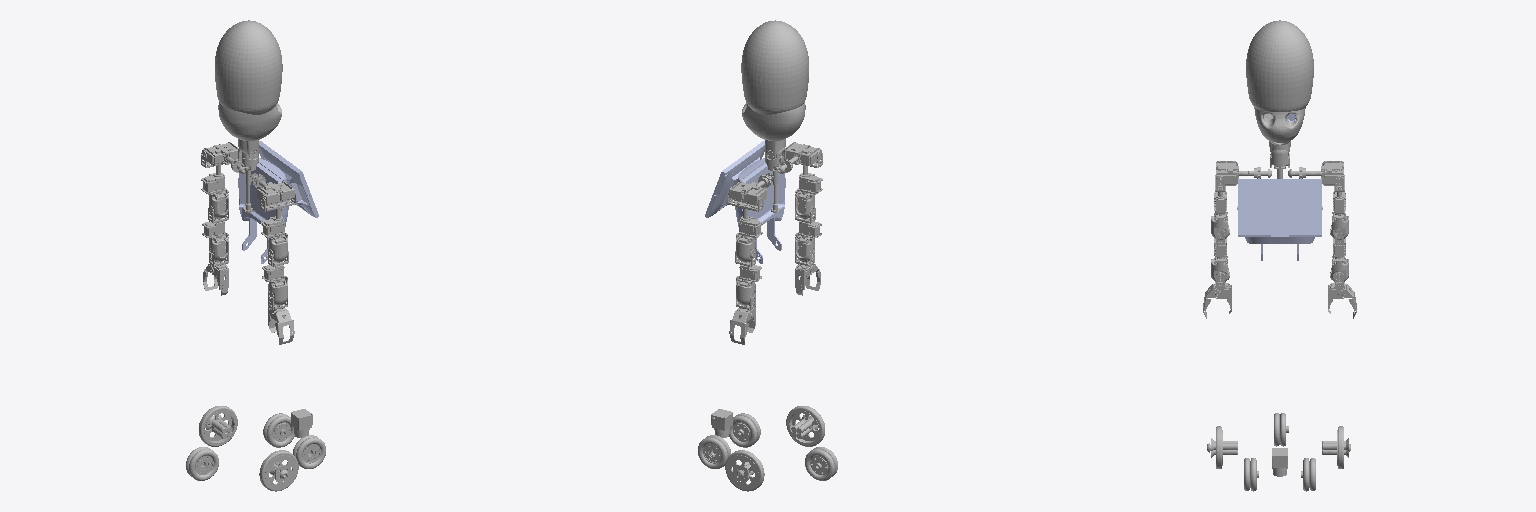
--- Render facts (derived) ---
3 views of the same robot in one strip: view 1: azimuth 30°, elevation 25°; view 2: azimuth 150°, elevation 25°; view 3: azimuth 270°, elevation 25° (orthographic).
Robot: bubot_description — 28 links, 27 joints (18 revolute, 5 continuous, 4 fixed); root link base_footprint; default pose: all joints at 0.
Visible links, largest first — view 1: head_pitch_link, tray_pitch_link, left_wheel_link, right_wheel_link, rear_wheel_link, right_front_wheel_link, left_front_wheel_link, right_arm_shoulder_pitch_link, left_arm_shoulder_pitch_link, right_arm_shoulder_roll_link, left_arm_shoulder_roll_link; view 2: head_pitch_link, tray_pitch_link, right_wheel_link, left_wheel_link, rear_wheel_link, left_front_wheel_link, right_front_wheel_link, left_arm_shoulder_pitch_link, right_arm_shoulder_pitch_link, left_arm_shoulder_roll_link, right_arm_shoulder_roll_link; view 3: head_pitch_link, tray_pitch_link, left_arm_shoulder_pitch_link, right_arm_shoulder_pitch_link, right_wheel_link, left_wheel_link.
Boxes of the visible links, x1,y1,x2,y2 form: head_pitch_link: (215, 20, 282, 157); tray_pitch_link: (238, 141, 318, 263); left_wheel_link: (199, 406, 237, 446); right_wheel_link: (259, 450, 298, 491); rear_wheel_link: (186, 447, 218, 480); right_front_wheel_link: (293, 435, 325, 468); left_front_wheel_link: (263, 413, 294, 447); right_arm_shoulder_pitch_link: (250, 173, 294, 205); left_arm_shoulder_pitch_link: (202, 142, 245, 173); right_arm_shoulder_roll_link: (260, 187, 295, 237); left_arm_shoulder_roll_link: (201, 151, 235, 194); head_pitch_link: (741, 20, 808, 157); tray_pitch_link: (705, 141, 785, 263); right_wheel_link: (786, 406, 824, 446); left_wheel_link: (725, 450, 764, 491); rear_wheel_link: (805, 447, 837, 480); left_front_wheel_link: (698, 435, 730, 468); right_front_wheel_link: (729, 413, 760, 447); left_arm_shoulder_pitch_link: (729, 173, 773, 205); right_arm_shoulder_pitch_link: (778, 142, 821, 173); left_arm_shoulder_roll_link: (728, 187, 763, 237); right_arm_shoulder_roll_link: (788, 151, 822, 194); head_pitch_link: (1246, 20, 1313, 154); tray_pitch_link: (1237, 179, 1322, 260); left_arm_shoulder_pitch_link: (1288, 161, 1343, 185); right_arm_shoulder_pitch_link: (1216, 161, 1271, 185); right_wheel_link: (1207, 426, 1237, 468); left_wheel_link: (1322, 426, 1350, 468).
Size in the robot's own frame: 0.414 by 0.4535 by 1.45 metres.
Meshes: 27 distinct files referenced, 24 mesh visuals loaded (24 binary STL); not drawn: 3 (reference not matched to a file when rendering).

The robot description file, URDF, robot "bubot_description":
<?xml version="1.0" encoding="utf-8"?>
<!-- This URDF was automatically created by SolidWorks to URDF Exporter! Originally created by Stephen Brawner ([email redacted]) 
     Commit Version: 1.5.0-0-g9aa0fdb  Build Version: 1.5.7004.21443
     For more information, please see http://wiki.ros.org/sw_urdf_exporter -->
<robot
  name="bubot_description">


 <link name="base_footprint"/>

  <joint name="base_joint" type="fixed">
    <parent link="base_footprint"/>
    <child link="base_link"/>
    <origin xyz="0.0 0.0 0.1" rpy="0 0 0"/>
  </joint>




  <link
    name="base_link">
    <inertial>
      <origin
        xyz="0.00614507467316344 0.00132442548214557 0.111279328924944"
        rpy="0 0 0" />
      <mass
        value="17.5407923723636" />
      <inertia
        ixx="0.469469086185873"
        ixy="0.000459258543047036"
        ixz="0.0195713811597716"
        iyy="0.488079163056402"
        iyz="-0.00170511359318661"
        izz="0.269766482328618" />
    </inertial>
    <visual>
      <origin
        xyz="0 0 0"
        rpy="0 0 0" />
      <geometry>
        <mesh
          filename="package://bubot_description/meshes/base_link.STL" />
      </geometry>
      <material
        name="">
        <color
          rgba="0.792156862745098 0.819607843137255 0.933333333333333 1" />
      </material>
    </visual>
    <collision>
      <origin
        xyz="0 0 0"
        rpy="0 0 0" />
      <geometry>
      <mesh  filename="package://bubot_description/meshes/base_link.STL" /> 
      </geometry>
    </collision>
  </link>
  <link
    name="left_wheel_link">
    <inertial>
      <origin
        xyz="-7.84851523104154E-11 -0.00332107438012788 8.73111291599393E-10"
        rpy="0 0 0" />
      <mass
        value="0.287293505141149" />
      <inertia
        ixx="0.000307503313942651"
        ixy="2.95562518254029E-12"
        ixz="-1.22548541274726E-17"
        iyy="0.000432551955047046"
        iyz="-3.80638695771607E-11"
        izz="0.000307503317768079" />
    </inertial>
    <visual>
      <origin
        xyz="0 0 0"
        rpy="0 0 0" />
      <geometry>
        <mesh
          filename="package://bubot_description/meshes/left_wheel_link.STL" />
      </geometry>
      <material
        name="">
        <color
          rgba="0.752941176470588 0.752941176470588 0.752941176470588 1" />
      </material>
    </visual>
    <collision>
      <origin
        xyz="0 0 0"
        rpy="0 0 0" />
      <geometry>
        <!--<meshfilename="package://bubot_description/meshes/left_wheel_link.STL" />-->
        <cylinder length="0.02" radius="0.065"/>
      </geometry>
    </collision>
  </link>
  <joint
    name="left_wheel_joint"
    type="continuous">
    <origin
      xyz="0 0.1795 -0.0814300000000002"
      rpy="0 0 0" />
    <parent
      link="base_link" />
    <child
      link="left_wheel_link" />
    <axis
      xyz="0 -0.999999999999957 0" />
    
      
  </joint>
  <link
    name="right_wheel_link">
    <inertial>
      <origin
        xyz="4.93461377815295E-11 0.00299505405611283 7.77355430026105E-10"
        rpy="0 0 0" />
      <mass
        value="0.287293505141148" />
      <inertia
        ixx="0.00030858947346633"
        ixy="2.0428470969486E-12"
        ixz="1.19749316134548E-17"
        iyy="0.000432551955047045"
        iyz="3.77544364458498E-11"
        izz="0.000308589477291759" />
    </inertial>
    <visual>
      <origin
        xyz="0 0 0"
        rpy="0 0 0" />
      <geometry>
        <mesh
          filename="package://bubot_description/meshes/right_wheel_link.STL" />
      </geometry>
      <material
        name="">
        <color
          rgba="0.752941176470588 0.752941176470588 0.752941176470588 1" />
      </material>
    </visual>
    <collision>
      <origin
        xyz="0 0 0"
        rpy="0 0 0" />
      <geometry>
       <!-- <mesh filename="package://bubot_description/meshes/right_wheel_link.STL" />-->
        <cylinder length="0.02" radius="0.065"/>
      </geometry>
    </collision>
  </link>
  <joint
    name="right_wheel_joint"
    type="continuous">
    <origin
      xyz="0 -0.1795 -0.08143"
      rpy="0 0 0" />
    <parent
      link="base_link" />
    <child
      link="right_wheel_link" />
    <axis
      xyz="0 1 0" />
    
      
  </joint>
  <link
    name="left_front_wheel_link">
    <inertial>
      <origin
        xyz="-1.69586567011493E-14 -0.00184263548561878 -2.8047009159593E-14"
        rpy="0 0 0" />
      <mass
        value="0.292526122406118" />
      <inertia
        ixx="0.000182324161031027"
        ixy="-1.25120058784725E-20"
        ixz="-1.04220518069559E-21"
        iyy="0.000310962059892664"
        iyz="-1.5008782043789E-21"
        izz="0.000182324161031027" />
    </inertial>
    <visual>
      <origin
        xyz="0 0 0"
        rpy="0 0 0" />
      <geometry>
        <mesh
          filename="package://bubot_description/meshes/left_front_wheel_link.STL" />
      </geometry>
      <material
        name="">
        <color
          rgba="0.752941176470588 0.752941176470588 0.752941176470588 1" />
      </material>
    </visual>
    <collision>
      <origin
        xyz="0 0 0"
        rpy="0 0 0" />
      <geometry>
        <mesh
          filename="package://bubot_description/meshes/left_front_wheel_link.STL" />
      </geometry>
    </collision>
  </link>
  <joint
    name="left_front_wheel_joint"
    type="continuous">
    <origin
      xyz="0.157 0.0873 -0.09493"
      rpy="0 0 0" />
    <parent
      link="base_link" />
    <child
      link="left_front_wheel_link" />
    <axis
      xyz="0 1 0" />
    
      
  </joint>
  <link
    name="right_front_wheel_link">
    <inertial>
      <origin
        xyz="-1.69309011255336E-14 0.00184263548561878 -2.80192535839774E-14"
        rpy="0 0 0" />
      <mass
        value="0.292526122406118" />
      <inertia
        ixx="0.000182324161031027"
        ixy="1.88302295403389E-21"
        ixz="-4.18630938134262E-21"
        iyy="0.000310962059892664"
        iyz="-4.00692203468122E-21"
        izz="0.000182324161031027" />
    </inertial>
    <visual>
      <origin
        xyz="0 0 0"
        rpy="0 0 0" />
      <geometry>
        <mesh
          filename="package://bubot_description/meshes/right_front_wheel_link.STL" />
      </geometry>
      <material
        name="">
        <color
          rgba="0.752941176470588 0.752941176470588 0.752941176470588 1" />
      </material>
    </visual>
    <collision>
      <origin
        xyz="0 0 0"
        rpy="0 0 0" />
      <geometry>
        <mesh
          filename="package://bubot_description/meshes/right_front_wheel_link.STL" />
      </geometry>
    </collision>
  </link>
  <joint
    name="right_front_wheel_joint"
    type="continuous">
    <origin
      xyz="0.157 -0.0873 -0.09493"
      rpy="0 0 0" />
    <parent
      link="base_link" />
    <child
      link="right_front_wheel_link" />
    <axis
      xyz="0 -1 0" />
    
      
  </joint>
  <link
    name="rear_wheel_link">
    <inertial>
      <origin
        xyz="0 0.0018426354861247 0"
        rpy="0 0 0" />
      <mass
        value="0.292526122406118" />
      <inertia
        ixx="0.000182324161031027"
        ixy="9.01577989152663E-21"
        ixz="-6.34838413139654E-21"
        iyy="0.000310962059892664"
        iyz="-1.24832850142728E-20"
        izz="0.000182324161031027" />
    </inertial>
    <visual>
      <origin
        xyz="0 0 0"
        rpy="0 0 0" />
      <geometry>
        <mesh
          filename="package://bubot_description/meshes/rear_wheel_link.STL" />
      </geometry>
      <material
        name="">
        <color
          rgba="0.752941176470588 0.752941176470588 0.752941176470588 1" />
      </material>
    </visual>
    <collision>
      <origin
        xyz="0 0 0"
        rpy="0 0 0" />
      <geometry>
        <mesh
          filename="package://bubot_description/meshes/rear_wheel_link.STL" />
      </geometry>
    </collision>
  </link>
  <joint
    name="rear_wheel_joint"
    type="continuous">
    <origin
      xyz="-0.156999999999998 0 -0.0949300000000002"
      rpy="0 0 0" />
    <parent
      link="base_link" />
    <child
      link="rear_wheel_link" />
    <axis
      xyz="0 -1 0" />
    
      
  </joint>
  <link
    name="front_laser_mountpoint_link">
    <inertial>
      <origin
        xyz="0.0109910978700271 -0.00660628943773737 -0.0102231270512427"
        rpy="0 0 0" />
      <mass
        value="0.142293449327418" />
      <inertia
        ixx="7.99749503749484E-05"
        ixy="7.56325152192464E-08"
        ixz="2.6339172338324E-08"
        iyy="8.01694611303598E-05"
        iyz="1.99081597083217E-07"
        izz="4.9027575487778E-05" />
    </inertial>
    <visual>
      <origin
        xyz="0 0 0"
        rpy="0 0 0" />
      <geometry>
        <mesh
          filename="package://bubot_description/meshes/front_laser_mountpoint_link.STL" />
      </geometry>
      <material
        name="">
        <color
          rgba="0.752941176470588 0.752941176470588 0.752941176470588 1" />
      </material>
    </visual>
    <collision>
      <origin
        xyz="0 0 0"
        rpy="0 0 0" />
      <geometry>
        <mesh
          filename="package://bubot_description/meshes/front_laser_mountpoint_link.STL" />
      </geometry>
    </collision>
  </link>
  <joint
    name="front_laser_mountpoint_joint"
    type="fixed">
    <origin
      xyz="0.169930018642521 0.00655022800475659 -0.0313817529714081"
      rpy="0 0 0" />
    <parent
      link="base_link" />
    <child
      link="front_laser_mountpoint_link" />
    <axis
      xyz="0 0 0" />
    
      
  </joint>
  <link
    name="torso_yaw_link">
    <inertial>
      <origin
        xyz="-0.0211836539763696 3.71816208305583E-05 0.134250337044029"
        rpy="0 0 0" />
      <mass
        value="15.384134203599" />
      <inertia
        ixx="0.502071562161703"
        ixy="-4.51403345740403E-06"
        ixz="-0.036488125429086"
        iyy="0.466071581377529"
        iyz="9.71646967407404E-05"
        izz="0.120092843605433" />
    </inertial>
    <visual>
      <origin
        xyz="0 0 0"
        rpy="0 0 0" />
      <geometry>
        <mesh
          filename="package://bubot_description/meshes/torso_yaw_link.STL" />
      </geometry>
      <material
        name="">
        <color
          rgba="0.792156862745098 0.819607843137255 0.933333333333333 1" />
      </material>
    </visual>
    <collision>
      <origin
        xyz="0 0 0"
        rpy="0 0 0" />
      <geometry>
        <mesh
          filename="package://bubot_description/meshes/torso_yaw_link.STL" />
      </geometry>
    </collision>
  </link>
  <joint
    name="torso_yaw_joint"
    type="revolute">
    <origin
      xyz="0 0 0.5265"
      rpy="0 0 0" />
    <parent
      link="base_link" />
    <child
      link="torso_yaw_link" />
    <axis
      xyz="0 0 1" />
    <limit
      lower="-0.79"
      upper="0.79"
      effort="10"
      velocity="1" />
    
      
  </joint>
  <link
    name="tray_pitch_link">
    <inertial>
      <origin
        xyz="0.0621721863824356 0.000728335369562271 0.180477032954461"
        rpy="0 0 0" />
      <mass
        value="2.98068027802018" />
      <inertia
        ixx="0.0194947536832028"
        ixy="-7.48678413809687E-05"
        ixz="-0.00132900861679371"
        iyy="0.011613140525037"
        iyz="-5.37259655538909E-05"
        izz="0.0142243951256448" />
    </inertial>
    <visual>
      <origin
        xyz="0 0 0"
        rpy="0 0 0" />
      <geometry>
        <mesh
          filename="package://bubot_description/meshes/tray_pitch_link.STL" />
      </geometry>
      <material
        name="">
        <color
          rgba="0.792156862745098 0.819607843137255 0.933333333333333 1" />
      </material>
    </visual>
    <collision>
      <origin
        xyz="0 0 0"
        rpy="0 0 0" />
      <geometry>
        <mesh
          filename="package://bubot_description/meshes/tray_pitch_link.STL" />
      </geometry>
    </collision>
  </link>
  <joint
    name="tray_pitch_joint"
    type="revolute">
    <origin
      xyz="0.02548 0 0.028"
      rpy="0 0 0" />
    <parent
      link="torso_yaw_link" />
    <child
      link="tray_pitch_link" />
    <axis
      xyz="0 1 0" />
    <!--<limit
      lower="0"
      upper="1.57"
      effort="10"
      velocity="1" />-->

    <limit velocity="4.8" effort="1" lower="0" upper="1.57" />

    
      
  </joint>
  <link
    name="head_yaw_link">
    <inertial>
      <origin
        xyz="0.0014962219880101 -3.04882859083288E-05 0.00782467988013213"
        rpy="0 0 0" />
      <mass
        value="0.201333205297474" />
      <inertia
        ixx="0.000736239714581384"
        ixy="-1.14109916065634E-08"
        ixz="-9.99042992566853E-06"
        iyy="0.00072938836390482"
        iyz="-1.17463954570097E-07"
        izz="5.17097177907421E-05" />
    </inertial>
    <visual>
      <origin
        xyz="0 0 0"
        rpy="0 0 0" />
      <geometry>
        <mesh
          filename="package://bubot_description/meshes/head_yaw_link.STL" />
      </geometry>
      <material
        name="">
        <color
          rgba="0.752941176470588 0.752941176470588 0.752941176470588 1" />
      </material>
    </visual>
    <collision>
      <origin
        xyz="0 0 0"
        rpy="0 0 0" />
      <geometry>
        <mesh
          filename="package://bubot_description/meshes/head_yaw_link.STL" />
      </geometry>
    </collision>
  </link>
  <joint
    name="head_yaw_joint"
    type="revolute">
    <origin
      xyz="0 0 0.30737"
      rpy="0 0 0" />
    <parent
      link="torso_yaw_link" />
    <child
      link="head_yaw_link" />
    <axis
      xyz="0 0 1" />
    <limit
      lower="-0.79"
      upper="0.79"
      effort="10"
      velocity="1" />
    
      
  </joint>
  <link
    name="head_pitch_link">
    <inertial>
      <origin
        xyz="0.00135536661040343 -0.000122880868704684 0.251021558465587"
        rpy="0 0 0" />
      <mass
        value="5.58924337729417" />
      <inertia
        ixx="0.0614222666404918"
        ixy="-9.13342160102728E-06"
        ixz="0.00139479623362596"
        iyy="0.0627976215444188"
        iyz="-5.50046240195658E-05"
        izz="0.0288452581063919" />
    </inertial>
    <visual>
      <origin
        xyz="0 0 0"
        rpy="0 0 0" />
      <geometry>
        <mesh
          filename="package://bubot_description/meshes/head_pitch_link.STL" />
      </geometry>
      <material
        name="">
        <color
          rgba="0.752941176470588 0.752941176470588 0.752941176470588 1" />
      </material>
    </visual>
    <collision>
      <origin
        xyz="0 0 0"
        rpy="0 0 0" />
      <geometry>
        <mesh
          filename="package://bubot_description/meshes/head_pitch_link.STL" />
      </geometry>
    </collision>
  </link>
  <joint
    name="head_pitch_joint"
    type="revolute">
    <origin
      xyz="0 0 0.0545"
      rpy="0 0 0" />
    <parent
      link="head_yaw_link" />
    <child
      link="head_pitch_link" />
    <axis
      xyz="0 -1 0" />
    <limit
      lower="-0.4"
      upper="0.4"
      effort="10"
      velocity="1" />
    
      
  </joint>
  <link
    name="left_camera_link">
    <inertial>
      <origin
        xyz="-0.0267186601902245 5.79327189692558E-09 -0.00151976594563874"
        rpy="0 0 0" />
      <mass
        value="0.040493403492273" />
      <inertia
        ixx="5.29997303158495E-06"
        ixy="3.00820822720973E-12"
        ixz="-4.20967409707152E-07"
        iyy="1.30948609116678E-05"
        iyz="2.95114820905194E-12"
        izz="1.19423729648629E-05" />
    </inertial>
    <visual>
      <origin
        xyz="0 0 0"
        rpy="0 0 0" />
      <geometry>
        <mesh
          filename="package://bubot_description/meshes/left_camera_link.STL" />
      </geometry>
      <material
        name="">
        <color
          rgba="0.792156862745098 0.819607843137255 0.933333333333333 1" />
      </material>
    </visual>
    <collision>
      <origin
        xyz="0 0 0"
        rpy="0 0 0" />
      <geometry>
        <mesh
          filename="package://bubot_description/meshes/left_camera_link.STL" />
      </geometry>
    </collision>
  </link>
  <joint
    name="left_camera_joint"
    type="fixed">
    <origin
      xyz="0.06349 0.034249 0.13677"
      rpy="0 0 0" />
    <parent
      link="head_pitch_link" />
    <child
      link="left_camera_link" />
    <axis
      xyz="0 0 0" />
    
      
  </joint>
  <link
    name="right_camera_link">
    <inertial>
      <origin
        xyz="-0.0267186601902246 5.79327180671996E-09 -0.00151976594563896"
        rpy="0 0 0" />
      <mass
        value="0.0404934034922726" />
      <inertia
        ixx="5.29997303158491E-06"
        ixy="3.00820827741918E-12"
        ixz="-4.20967409707142E-07"
        iyy="1.30948609116678E-05"
        iyz="2.95114823210664E-12"
        izz="1.19423729648629E-05" />
    </inertial>
    <visual>
      <origin
        xyz="0 0 0"
        rpy="0 0 0" />
      <geometry>
        <mesh
          filename="package://bubot_description/meshes/right_camera_link.STL" />
      </geometry>
      <material
        name="">
        <color
          rgba="0.792156862745098 0.819607843137255 0.933333333333333 1" />
      </material>
    </visual>
    <collision>
      <origin
        xyz="0 0 0"
        rpy="0 0 0" />
      <geometry>
        <mesh
          filename="package://bubot_description/meshes/right_camera_link.STL" />
      </geometry>
    </collision>
  </link>
  <joint
    name="right_camera_joint"
    type="fixed">
    <origin
      xyz="0.06349 -0.034249 0.13677"
      rpy="0 0 0" />
    <parent
      link="head_pitch_link" />
    <child
      link="right_camera_link" />
    <axis
      xyz="0 0 0" />
    
      
  </joint>
  <link
    name="left_arm_shoulder_pitch_link">
    <inertial>
      <origin
        xyz="-2.01847045650135E-05 -0.0451116289125171 -2.35599322817581E-06"
        rpy="0 0 0" />
      <mass
        value="0.306747657838696" />
      <inertia
        ixx="0.000644985216105913"
        ixy="-3.96276186346391E-07"
        ixz="8.03414796312445E-09"
        iyy="0.000167167127049386"
        iyz="-4.26302036483178E-08"
        izz="0.000757573229516701" />
    </inertial>
    <visual>
      <origin
        xyz="0 0 0"
        rpy="0 0 0" />
      <geometry>
        <mesh
          filename="package://bubot_description/meshes/left_arm_shoulder_pitch_link.STL" />
      </geometry>
      <material
        name="">
        <color
          rgba="0.752941176470588 0.752941176470588 0.752941176470588 1" />
      </material>
    </visual>
    <collision>
      <origin
        xyz="0 0 0"
        rpy="0 0 0" />
      <geometry>
        <mesh
          filename="package://bubot_description/meshes/left_arm_shoulder_pitch_link.STL" />
      </geometry>
    </collision>
  </link>
  <joint
    name="left_arm_shoulder_pitch_joint"
    type="revolute">
    <origin
      xyz="0 0.17524 0.28577"
      rpy="0 0 0" />
    <parent
      link="torso_yaw_link" />
    <child
      link="left_arm_shoulder_pitch_link" />
    <axis
      xyz="0 -1 0" />
    <limit
      lower="-0.52"
      upper="2.62"
      effort="10"
      velocity="1" />
    
      
  </joint>
  <link
    name="left_arm_shoulder_roll_link">
    <inertial>
      <origin
        xyz="-0.00935726062318225 1.85211083744696E-06 -0.0749352243453262"
        rpy="0 0 0" />
      <mass
        value="0.148223892772267" />
      <inertia
        ixx="0.000205311872027797"
        ixy="4.49394119027176E-10"
        ixz="-3.57142199446871E-05"
        iyy="0.000287705166912236"
        iyz="5.8749575095666E-09"
        izz="0.000108432879463927" />
    </inertial>
    <visual>
      <origin
        xyz="0 0 0"
        rpy="0 0 0" />
      <geometry>
        <mesh
          filename="package://bubot_description/meshes/left_arm_shoulder_roll_link.STL" />
      </geometry>
      <material
        name="">
        <color
          rgba="0.752941176470588 0.752941176470588 0.752941176470588 1" />
      </material>
    </visual>
    <collision>
      <origin
        xyz="0 0 0"
        rpy="0 0 0" />
      <geometry>
        <mesh
          filename="package://bubot_description/meshes/left_arm_shoulder_roll_link.STL" />
      </geometry>
    </collision>
  </link>
  <joint
    name="left_arm_shoulder_roll_joint"
    type="revolute">
    <origin
      xyz="0 0 0"
      rpy="0 0 0" />
    <parent
      link="left_arm_shoulder_pitch_link" />
    <child
      link="left_arm_shoulder_roll_link" />
    <axis
      xyz="-1 0 0" />
    <limit
      lower="-1.57"
      upper="0.8"
      effort="10"
      velocity="1" />
    
      
  </joint>
  <link
    name="left_arm_shoulder_yaw_link">
    <inertial>
      <origin
        xyz="-4.01901055222955E-05 0.00197241738066228 -0.0389134846245449"
        rpy="0 0 0" />
      <mass
        value="0.152725889069381" />
      <inertia
        ixx="0.000108787432464282"
        ixy="-1.43335608439823E-08"
        ixz="2.92942408618662E-07"
        iyy="0.000115714604896234"
        iyz="1.37835570785637E-06"
        izz="5.03538269720473E-05" />
    </inertial>
    <visual>
      <origin
        xyz="0 0 0"
        rpy="0 0 0" />
      <geometry>
        <mesh
          filename="package://bubot_description/meshes/left_arm_shoulder_yaw_link.STL" />
      </geometry>
      <material
        name="">
        <color
          rgba="0.752941176470588 0.752941176470588 0.752941176470588 1" />
      </material>
    </visual>
    <collision>
      <origin
        xyz="0 0 0"
        rpy="0 0 0" />
      <geometry>
        <mesh
          filename="package://bubot_description/meshes/left_arm_shoulder_yaw_link.STL" />
      </geometry>
    </collision>
  </link>
  <joint
    name="left_arm_shoulder_yaw_joint"
    type="revolute">
    <origin
      xyz="0 0 -0.1284"
      rpy="0 0 0" />
    <parent
      link="left_arm_shoulder_roll_link" />
    <child
      link="left_arm_shoulder_yaw_link" />
    <axis
      xyz="0 0 -1" />
    <limit
      lower="-1.57"
      upper="1.57"
      effort="10"
      velocity="1" />
    
      
  </joint>
  <link
    name="left_arm_elbow_roll_link">
    <inertial>
      <origin
        xyz="-0.0133479498953629 -1.74693127491521E-07 -0.0554210342087247"
        rpy="0 0 0" />
      <mass
        value="0.225143095717014" />
      <inertia
        ixx="9.98807488182808E-05"
        ixy="2.45099920488333E-10"
        ixz="-1.60210737229541E-05"
        iyy="0.000150288035346698"
        iyz="5.4288554667378E-10"
        izz="9.03563982672108E-05" />
    </inertial>
    <visual>
      <origin
        xyz="0 0 0"
        rpy="0 0 0" />
      <geometry>
        <mesh
          filename="package://bubot_description/meshes/left_arm_elbow_roll_link.STL" />
      </geometry>
      <material
        name="">
        <color
          rgba="0.752941176470588 0.752941176470588 0.752941176470588 1" />
      </material>
    </visual>
    <collision>
      <origin
        xyz="0 0 0"
        rpy="0 0 0" />
      <geometry>
        <mesh
          filename="package://bubot_description/meshes/left_arm_elbow_roll_link.STL" />
      </geometry>
    </collision>
  </link>
  <joint
    name="left_arm_elbow_roll_joint"
    type="revolute">
    <origin
      xyz="0 0 -0.057"
      rpy="0 0 0" />
    <parent
      link="left_arm_shoulder_yaw_link" />
    <child
      link="left_arm_elbow_roll_link" />
    <axis
      xyz="1 0 0" />
    <limit
      lower="-1.57"
      upper="0"
      effort="10"
      velocity="1" />
    
      
  </joint>
  <link
    name="left_arm_forearm_yaw_link">
    <inertial>
      <origin
        xyz="-6.6970770083286E-05 0.00116472445725802 -0.0378005926629413"
        rpy="0 0 0" />
      <mass
        value="0.258905060533676" />
      <inertia
        ixx="0.000139306913841423"
        ixy="-2.0253581906963E-08"
        ixz="7.15620929206833E-07"
        iyy="0.000149549619429831"
        iyz="9.41595146498601E-07"
        izz="7.19910419186781E-05" />
    </inertial>
    <visual>
      <origin
        xyz="0 0 0"
        rpy="0 0 0" />
      <geometry>
        <mesh
          filename="package://bubot_description/meshes/left_arm_forearm_yaw_link.STL" />
      </geometry>
      <material
        name="">
        <color
          rgba="0.752941176470588 0.752941176470588 0.752941176470588 1" />
      </material>
    </visual>
    <collision>
      <origin
        xyz="0 0 0"
        rpy="0 0 0" />
      <geometry>
        <mesh
          filename="package://bubot_description/meshes/left_arm_forearm_yaw_link.STL" />
      </geometry>
    </collision>
  </link>
  <joint
    name="left_arm_forearm_yaw_joint"
    type="revolute">
    <origin
      xyz="0 0 -0.0859"
      rpy="0 0 0" />
    <parent
      link="left_arm_elbow_roll_link" />
    <child
      link="left_arm_forearm_yaw_link" />
    <axis
      xyz="0 0 -1" />
    <limit
      lower="-1.57"
      upper="1.57"
      effort="10"
      velocity="1" />
    
      
  </joint>
  <link
    name="left_arm_wrist_roll_link">
    <inertial>
      <origin
        xyz="7.35434333757039E-05 -0.00440529803418652 -0.0544053642249812"
        rpy="0 0 0" />
      <mass
        value="0.280294928579261" />
      <inertia
        ixx="0.000132795074211678"
        ixy="-2.96287980415066E-07"
        ixz="3.42523704486071E-07"
        iyy="0.000117756363395381"
        iyz="-1.48425806925107E-05"
        izz="9.47251038940315E-05" />
    </inertial>
    <visual>
      <origin
        xyz="0 0 0"
        rpy="0 0 0" />
      <geometry>
        <mesh
          filename="package://bubot_description/meshes/left_arm_wrist_roll_link.STL" />
      </geometry>
      <material
        name="">
        <color
          rgba="0.752941176470588 0.752941176470588 0.752941176470588 1" />
      </material>
    </visual>
    <collision>
      <origin
        xyz="0 0 0"
        rpy="0 0 0" />
      <geometry>
        <mesh
          filename="package://bubot_description/meshes/left_arm_wrist_roll_link.STL" />
      </geometry>
    </collision>
  </link>
  <joint
    name="left_arm_wrist_roll_joint"
    type="revolute">
    <origin
      xyz="0 0 -0.0545"
      rpy="0 0 0" />
    <parent
      link="left_arm_forearm_yaw_link" />
    <child
      link="left_arm_wrist_roll_link" />
    <axis
      xyz="1 0 0" />
    <limit
      lower="-1.57"
      upper="0.5"
      effort="10"
      velocity="1" />
    
      
  </joint>
  <link
    name="left_gripper_link">
    <inertial>
      <origin
        xyz="-0.000991234955939549 0.026129079228895 -0.021578203651113"
        rpy="0 0 0" />
      <mass
        value="0.0259118393412755" />
      <inertia
        ixx="2.26169168850478E-05"
        ixy="-6.71117975004994E-07"
        ixz="5.54229703889131E-07"
        iyy="2.68146617009823E-05"
        iyz="6.49688575835065E-06"
        izz="1.4469767247106E-05" />
    </inertial>
    <visual>
      <origin
        xyz="0 0 0"
        rpy="0 0 0" />
      <geometry>
        <mesh
          filename="package://bubot_description/meshes/left_gripper_link.STL" />
      </geometry>
      <material
        name="">
        <color
          rgba="0.752941176470588 0.752941176470588 0.752941176470588 1" />
      </material>
    </visual>
    <collision>
      <origin
        xyz="0 0 0"
        rpy="0 0 0" />
      <geometry>
        <mesh
          filename="package://bubot_description/meshes/left_gripper_link.STL" />
      </geometry>
    </collision>
  </link>
  <joint
    name="left_gripper_joint"
    type="revolute">
    <origin
      xyz="0.0001 0.008 -0.057"
      rpy="0 0 0" />
    <parent
      link="left_arm_wrist_roll_link" />
    <child
      link="left_gripper_link" />
    <axis
      xyz="1 0 0" />
    <limit
      lower="-1.57"
      upper="0"
      effort="10"
      velocity="1" />
    
      
  </joint>
  <link
    name="right_arm_shoulder_pitch_link">
    <inertial>
      <origin
        xyz="-2.01847045647611E-05 0.0451116289125171 2.35599323250568E-06"
        rpy="0 0 0" />
      <mass
        value="0.306747657838696" />
      <inertia
        ixx="0.000644985216105911"
        ixy="3.96276186342984E-07"
        ixz="-8.03414796694001E-09"
        iyy="0.000167167127049385"
        iyz="-4.26302037216061E-08"
        izz="0.000757573229516699" />
    </inertial>
    <visual>
      <origin
        xyz="0 0 0"
        rpy="0 0 0" />
      <geometry>
        <mesh
          filename="package://bubot_description/meshes/right_arm_shoulder_pitch_link.STL" />
      </geometry>
      <material
        name="">
        <color
          rgba="0.752941176470588 0.752941176470588 0.752941176470588 1" />
      </material>
    </visual>
    <collision>
      <origin
        xyz="0 0 0"
        rpy="0 0 0" />
      <geometry>
        <mesh
          filename="package://bubot_description/meshes/right_arm_shoulder_pitch_link.STL" />
      </geometry>
    </collision>
  </link>
  <joint
    name="right_arm_shoulder_pitch_joint"
    type="revolute">
    <origin
      xyz="0 -0.17524 0.28577"
      rpy="0 0 0" />
    <parent
      link="torso_yaw_link" />
    <child
      link="right_arm_shoulder_pitch_link" />
    <axis
      xyz="0 1 0" />
    <limit
      lower="-2.62"
      upper="0.52"
      effort="10"
      velocity="1" />
    
      
  </joint>
  <link
    name="right_arm_shoulder_roll_link">
    <inertial>
      <origin
        xyz="-0.00935726062318807 1.85250750658894E-06 -0.0749352247419803"
        rpy="0 0 0" />
      <mass
        value="0.148223892772287" />
      <inertia
        ixx="0.000205311863216038"
        ixy="4.48844260026596E-10"
        ixz="-3.57142193941647E-05"
        iyy="0.000287705165751563"
        iyz="5.87055159724753E-09"
        izz="0.000108432871812912" />
    </inertial>
    <visual>
      <origin
        xyz="0 0 0"
        rpy="0 0 0" />
      <geometry>
        <mesh
          filename="package://bubot_description/meshes/right_arm_shoulder_roll_link.STL" />
      </geometry>
      <material
        name="">
        <color
          rgba="0.752941176470588 0.752941176470588 0.752941176470588 1" />
      </material>
    </visual>
    <collision>
      <origin
        xyz="0 0 0"
        rpy="0 0 0" />
      <geometry>
        <mesh
          filename="package://bubot_description/meshes/right_arm_shoulder_roll_link.STL" />
      </geometry>
    </collision>
  </link>
  <joint
    name="right_arm_shoulder_roll_joint"
    type="revolute">
    <origin
      xyz="0 0 0"
      rpy="0 0 0" />
    <parent
      link="right_arm_shoulder_pitch_link" />
    <child
      link="right_arm_shoulder_roll_link" />
    <axis
      xyz="-1 0 0" />
    <limit
      lower="-0.8"
      upper="1.57"
      effort="10"
      velocity="1" />
    
      
  </joint>
  <link
    name="right_arm_shoulder_yaw_link">
    <inertial>
      <origin
        xyz="-2.54421664651325E-05 -0.00197652841663448 -0.0389134846245834"
        rpy="0 0 0" />
      <mass
        value="0.152725889069381" />
      <inertia
        ixx="0.000108784953072904"
        ixy="5.45342629693321E-09"
        ixz="3.95523713396294E-07"
        iyy="0.000115714752725992"
        iyz="-1.38311998572724E-06"
        izz="5.0351495410133E-05" />
    </inertial>
    <visual>
      <origin
        xyz="0 0 0"
        rpy="0 0 0" />
      <geometry>
        <mesh
          filename="package://bubot_description/meshes/right_arm_shoulder_yaw_link.STL" />
      </geometry>
      <material
        name="">
        <color
          rgba="0.752941176470588 0.752941176470588 0.752941176470588 1" />
      </material>
    </visual>
    <collision>
      <origin
        xyz="0 0 0"
        rpy="0 0 0" />
      <geometry>
        <mesh
          filename="package://bubot_description/meshes/right_arm_shoulder_yaw_link.STL" />
      </geometry>
    </collision>
  </link>
  <joint
    name="right_arm_shoulder_yaw_joint"
    type="revolute">
    <origin
      xyz="0 0 -0.1284"
      rpy="0 0 0" />
    <parent
      link="right_arm_shoulder_roll_link" />
    <child
      link="right_arm_shoulder_yaw_link" />
    <axis
      xyz="0 0 -1" />
    <limit
      lower="-1.57"
      upper="1.57"
      effort="10"
      velocity="1" />
    
      
  </joint>
  <link
    name="right_arm_elbow_roll_link">
    <inertial>
      <origin
        xyz="-0.0133479498953628 -1.74693131543835E-07 -0.0554210342087247"
        rpy="0 0 0" />
      <mass
        value="0.225143095717014" />
      <inertia
        ixx="9.98807488182809E-05"
        ixy="2.45099919047629E-10"
        ixz="-1.60210737229541E-05"
        iyy="0.000150288035346699"
        iyz="5.42885542318241E-10"
        izz="9.03563982672107E-05" />
    </inertial>
    <visual>
      <origin
        xyz="0 0 0"
        rpy="0 0 0" />
      <geometry>
        <mesh
          filename="package://bubot_description/meshes/right_arm_elbow_roll_link.STL" />
      </geometry>
      <material
        name="">
        <color
          rgba="0.752941176470588 0.752941176470588 0.752941176470588 1" />
      </material>
    </visual>
    <collision>
      <origin
        xyz="0 0 0"
        rpy="0 0 0" />
      <geometry>
        <mesh
          filename="package://bubot_description/meshes/right_arm_elbow_roll_link.STL" />
      </geometry>
    </collision>
  </link>
  <joint
    name="right_arm_elbow_roll_joint"
    type="revolute">
    <origin
      xyz="0 0 -0.057"
      rpy="0 0 0" />
    <parent
      link="right_arm_shoulder_yaw_link" />
    <child
      link="right_arm_elbow_roll_link" />
    <axis
      xyz="1 0 0" />
    <limit
      lower="0"
      upper="1.57"
      effort="10"
      velocity="1" />
    
      
  </joint>
  <link
    name="right_arm_forearm_yaw_link">
    <inertial>
      <origin
        xyz="-5.82710865038856E-05 -0.00116472501945633 -0.037800592662962"
        rpy="0 0 0" />
      <mass
        value="0.258905060533675" />
      <inertia
        ixx="0.000139306913502481"
        ixy="1.75134911845078E-08"
        ixz="8.15077015953276E-07"
        iyy="0.000149549901523719"
        iyz="-9.41602233040027E-07"
        izz="7.19913236733835E-05" />
    </inertial>
    <visual>
      <origin
        xyz="0 0 0"
        rpy="0 0 0" />
      <geometry>
        <mesh
          filename="package://bubot_description/meshes/right_arm_forearm_yaw_link.STL" />
      </geometry>
      <material
        name="">
        <color
          rgba="0.752941176470588 0.752941176470588 0.752941176470588 1" />
      </material>
    </visual>
    <collision>
      <origin
        xyz="0 0 0"
        rpy="0 0 0" />
      <geometry>
        <mesh
          filename="package://bubot_description/meshes/right_arm_forearm_yaw_link.STL" />
      </geometry>
    </collision>
  </link>
  <joint
    name="right_arm_forearm_yaw_joint"
    type="revolute">
    <origin
      xyz="0 0 -0.0859"
      rpy="0 0 0" />
    <parent
      link="right_arm_elbow_roll_link" />
    <child
      link="right_arm_forearm_yaw_link" />
    <axis
      xyz="0 0 -1" />
    <limit
      lower="-1.57"
      upper="1.57"
      effort="10"
      velocity="1" />
    
      
  </joint>
  <link
    name="right_arm_wrist_roll_link">
    <inertial>
      <origin
        xyz="-0.000136224402740855 0.00440529803529258 -0.0544053636252678"
        rpy="0 0 0" />
      <mass
        value="0.280294928567053" />
      <inertia
        ixx="0.000132795073332597"
        ixy="6.39250660584392E-07"
        ixz="1.89973116759433E-07"
        iyy="0.000117752677076981"
        iyz="1.48425857231549E-05"
        izz="9.47214184411057E-05" />
    </inertial>
    <visual>
      <origin
        xyz="0 0 0"
        rpy="0 0 0" />
      <geometry>
        <mesh
          filename="package://bubot_description/meshes/right_arm_wrist_roll_link.STL" />
      </geometry>
      <material
        name="">
        <color
          rgba="0.752941176470588 0.752941176470588 0.752941176470588 1" />
      </material>
    </visual>
    <collision>
      <origin
        xyz="0 0 0"
        rpy="0 0 0" />
      <geometry>
        <mesh
          filename="package://bubot_description/meshes/right_arm_wrist_roll_link.STL" />
      </geometry>
    </collision>
  </link>
  <joint
    name="right_arm_wrist_roll_joint"
    type="revolute">
    <origin
      xyz="0 0 -0.0545"
      rpy="0 0 0" />
    <parent
      link="right_arm_forearm_yaw_link" />
    <child
      link="right_arm_wrist_roll_link" />
    <axis
      xyz="1 0 0" />
    <limit
      lower="-0.5"
      upper="1.57"
      effort="10"
      velocity="1" />
    
      
  </joint>
  <link
    name="right_gripper_link">
    <inertial>
      <origin
        xyz="-0.000991234470215046 -0.0261290792276228 -0.0215782036495957"
        rpy="0 0 0" />
      <mass
        value="0.0259118393412762" />
      <inertia
        ixx="2.26169168884705E-05"
        ixy="6.71118221152274E-07"
        ixz="5.54230043124119E-07"
        iyy="2.68146617276616E-05"
        iyz="-6.49688576008527E-06"
        izz="1.44697672737526E-05" />
    </inertial>
    <visual>
      <origin
        xyz="0 0 0"
        rpy="0 0 0" />
      <geometry>
        <mesh
          filename="package://bubot_description/meshes/right_gripper_link.STL" />
      </geometry>
      <material
        name="">
        <color
          rgba="0.752941176470588 0.752941176470588 0.752941176470588 1" />
      </material>
    </visual>
    <collision>
      <origin
        xyz="0 0 0"
        rpy="0 0 0" />
      <geometry>
        <mesh
          filename="package://bubot_description/meshes/right_gripper_link.STL" />
      </geometry>
    </collision>
  </link>
  <joint
    name="right_gripper_joint"
    type="revolute">
    <origin
      xyz="0.0001 -0.008 -0.057"
      rpy="0 0 0" />
    <parent
      link="right_arm_wrist_roll_link" />
    <child
      link="right_gripper_link" />
    <axis
      xyz="1 0 0" />
    <limit
      lower="0"
      upper="1.57"
      effort="10"
      velocity="1" />
    
      
  </joint>
</robot>
